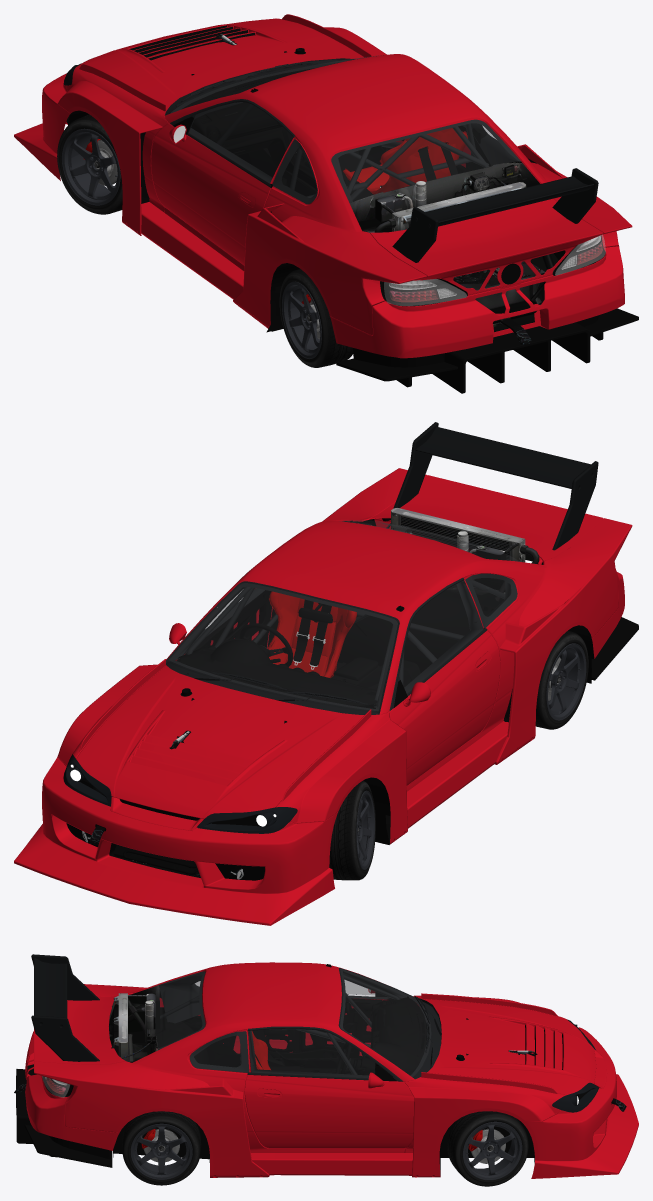
Rendered from nissan-s15-showroom.glb.
The picture shows the model from 3 angles, top to bottom: view 1: azimuth 30°, elevation 25°; view 2: azimuth 150°, elevation 25°; view 3: azimuth 270°, elevation 25°; orthographic projection. The views are drawn at different scales.
Parts seen in each view (by area): view 1: Object_2, Object_5, Object_12, Object_4, Object_15, Object_7, Object_16, Object_41, Object_36, Object_24, Object_20, Object_18 (+11 smaller); view 2: Object_2, Object_5, Object_12, Object_15, Object_9, Object_16, Object_18, Object_4, Object_41, Object_24, Object_29, Object_40 (+7 smaller); view 3: Object_2, Object_5, Object_12, Object_15, Object_41, Object_16, Object_32, Object_4, Object_18, Object_7, Object_36, Object_40 (+9 smaller).
Boxes of the visible parts, x1=… form: Object_2: x1=14, y1=14, x2=632, y2=358; Object_5: x1=171, y1=55, x2=520, y2=203; Object_12: x1=76, y1=18, x2=364, y2=110; Object_4: x1=129, y1=25, x2=595, y2=332; Object_15: x1=165, y1=55, x2=520, y2=204; Object_7: x1=336, y1=308, x2=638, y2=393; Object_16: x1=392, y1=168, x2=598, y2=262; Object_41: x1=57, y1=114, x2=353, y2=367; Object_36: x1=61, y1=128, x2=120, y2=205; Object_24: x1=343, y1=128, x2=467, y2=194; Object_20: x1=384, y1=234, x2=605, y2=305; Object_18: x1=181, y1=68, x2=312, y2=142; Object_2: x1=14, y1=468, x2=632, y2=925; Object_5: x1=170, y1=520, x2=518, y2=710; Object_12: x1=76, y1=665, x2=364, y2=818; Object_15: x1=166, y1=520, x2=519, y2=714; Object_9: x1=66, y1=594, x2=594, y2=880; Object_16: x1=393, y1=422, x2=598, y2=550; Object_18: x1=177, y1=638, x2=377, y2=705; Object_4: x1=169, y1=508, x2=543, y2=749; Object_41: x1=329, y1=630, x2=588, y2=880; Object_24: x1=267, y1=591, x2=356, y2=678; Object_29: x1=63, y1=754, x2=297, y2=833; Object_40: x1=546, y1=643, x2=586, y2=720; Object_2: x1=25, y1=962, x2=638, y2=1178; Object_5: x1=155, y1=969, x2=430, y2=1077; Object_12: x1=421, y1=998, x2=596, y2=1095; Object_15: x1=159, y1=968, x2=441, y2=1081; Object_41: x1=122, y1=1111, x2=528, y2=1186; Object_16: x1=31, y1=954, x2=99, y2=1061; Object_32: x1=159, y1=989, x2=419, y2=1073; Object_4: x1=27, y1=985, x2=563, y2=1095; Object_18: x1=370, y1=997, x2=426, y2=1076; Object_7: x1=16, y1=1069, x2=112, y2=1167; Object_36: x1=462, y1=1121, x2=522, y2=1180; Object_40: x1=130, y1=1123, x2=192, y2=1179.
Size of what is drawn, in the model's own units: 2.09 by 1.29 by 4.83.
Materials: 38 (8 with a texture image).
